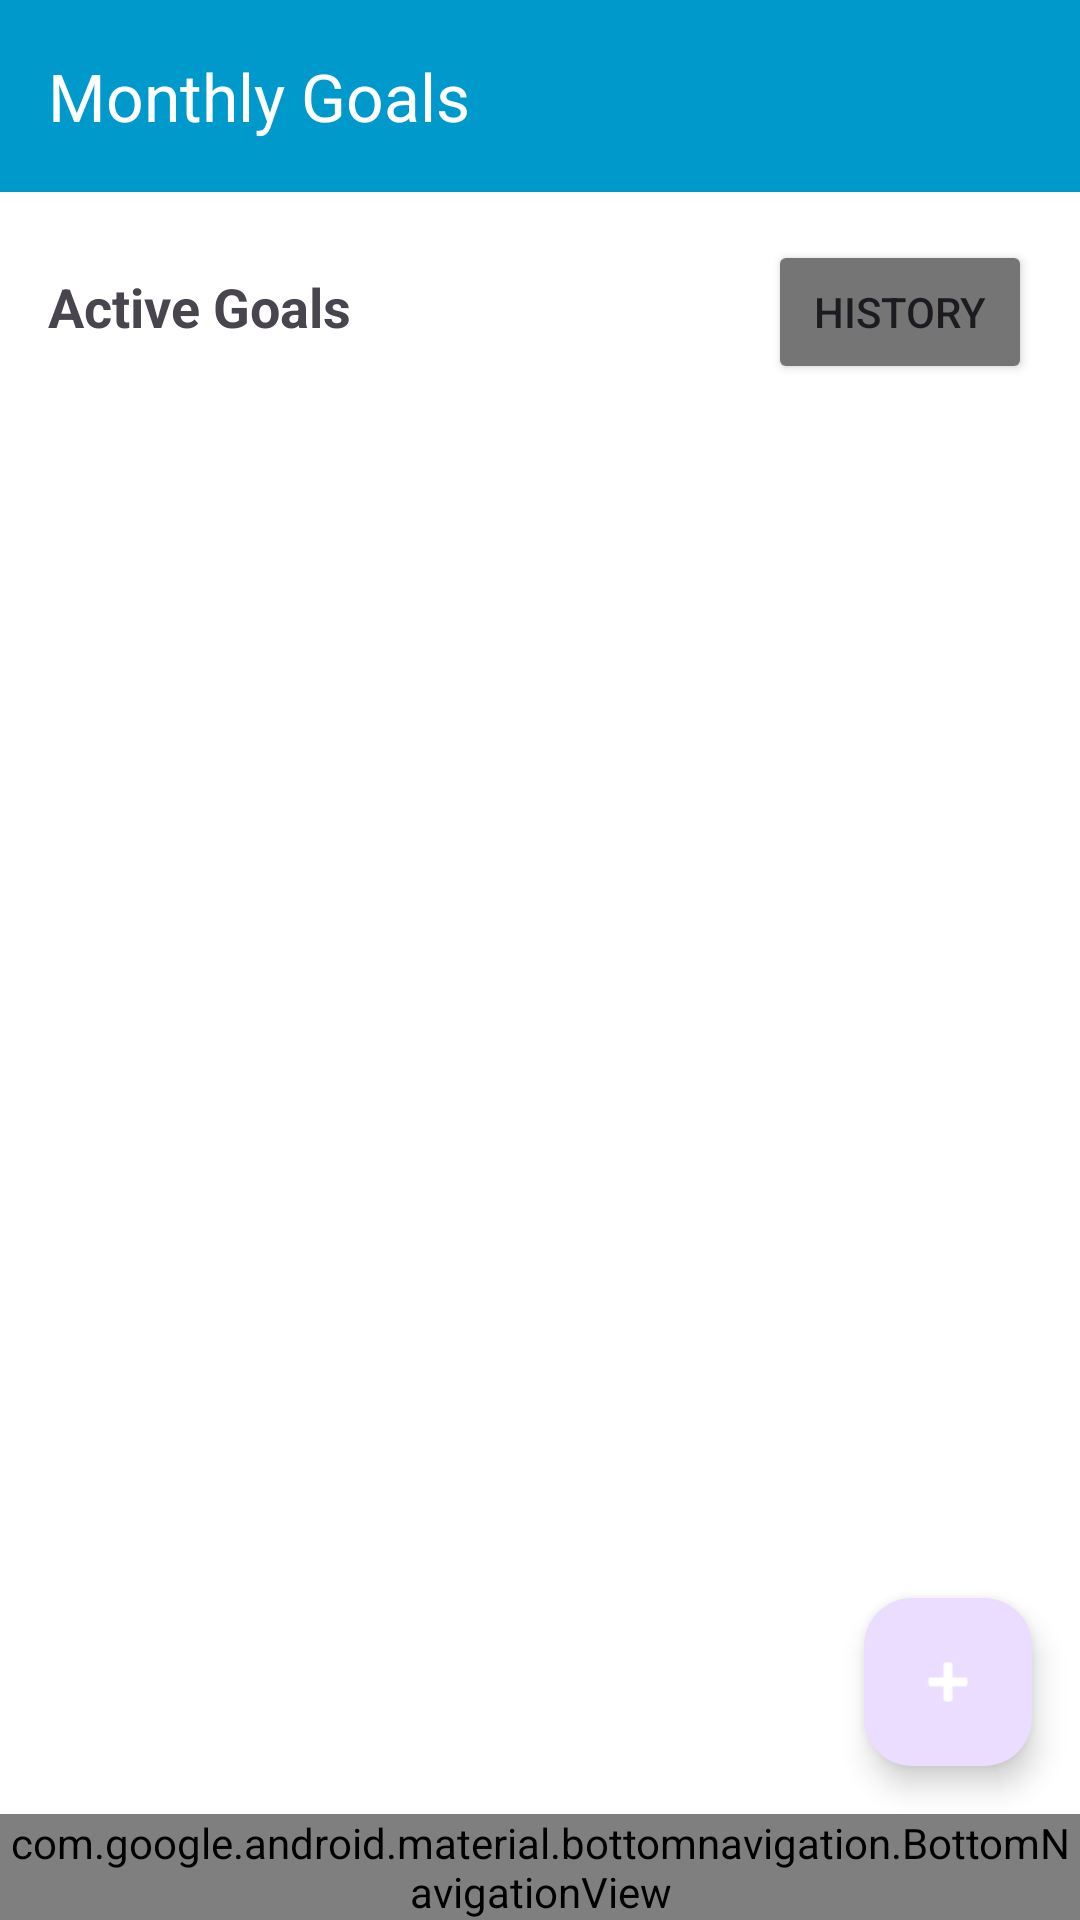

Point at icon controls on the screen. Image size 1080*1920, points as (x,y).
add: (948,1682)
